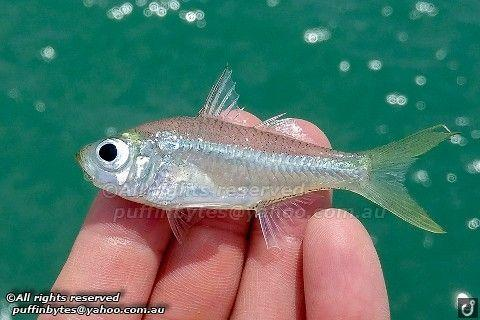Glass Perchlet: (76, 60, 450, 252)
